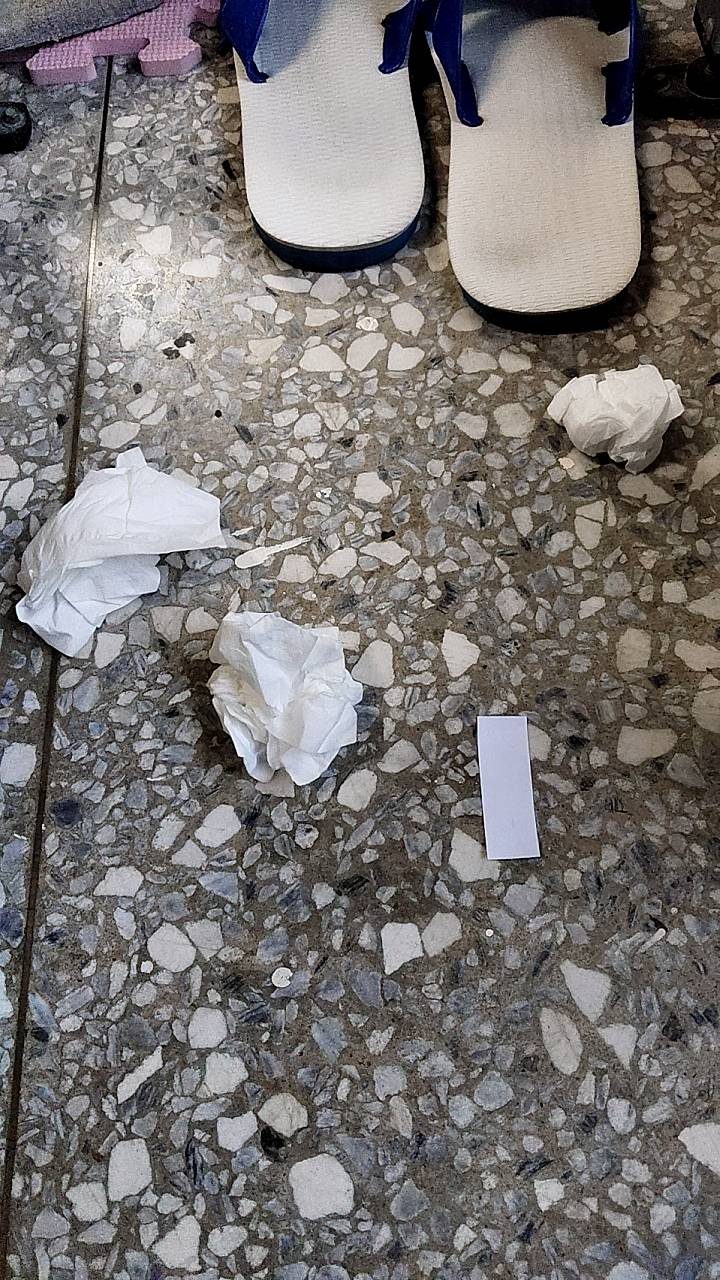General waste: (0, 422, 258, 700), (170, 610, 430, 800), (522, 340, 705, 510)
paper: (425, 702, 613, 902)
